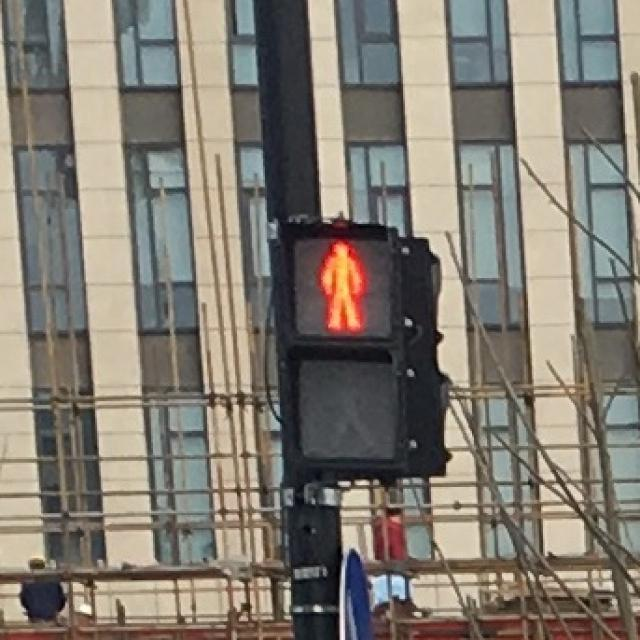red-crossing: (287, 232, 394, 340)
